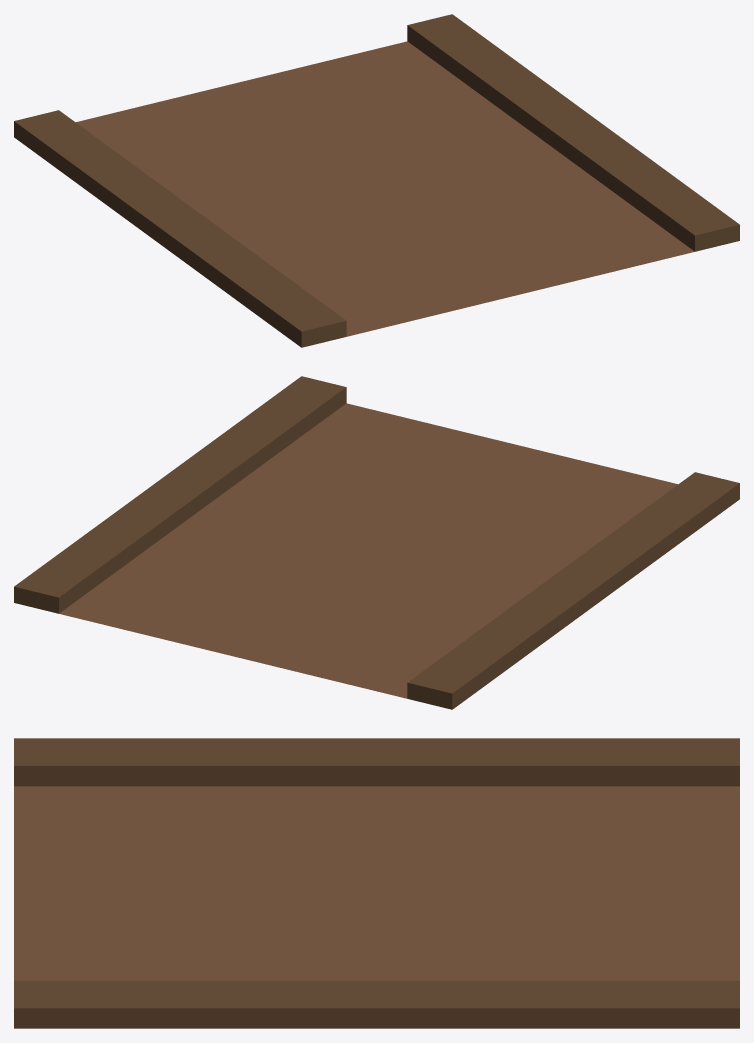
File: Pavement Tile_1.fbx
3 views of the same model, one above another, from view 1: azimuth 30°, elevation 25°; view 2: azimuth 150°, elevation 25°; view 3: azimuth 270°, elevation 25° (orthographic). The views are drawn at different scales.
Parts seen in each view (by area): view 1: Pavement Tile_1; view 2: Pavement Tile_1; view 3: Pavement Tile_1.
Part boxes in pixels (x1=…): Pavement Tile_1: x1=14, y1=14, x2=739, y2=347; Pavement Tile_1: x1=14, y1=376, x2=739, y2=709; Pavement Tile_1: x1=14, y1=738, x2=739, y2=1028.
Size of the model in its own units: 352 by 12.45 by 400.
